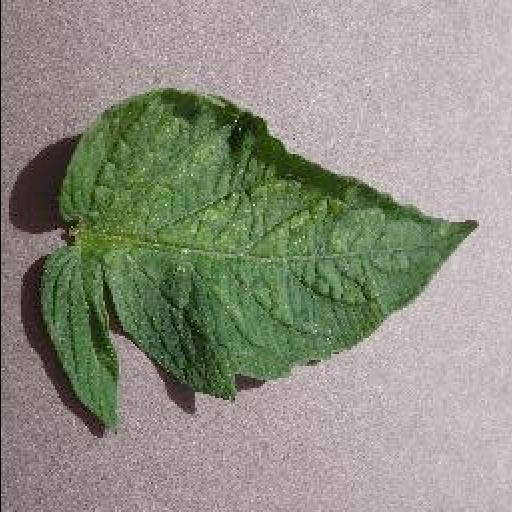disease_tomato: (36, 85, 484, 435)
